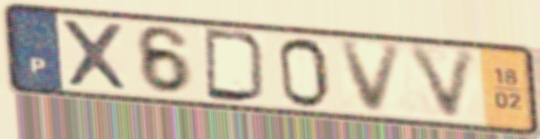0: (275, 36, 333, 110)
6: (132, 24, 198, 98)
D: (200, 25, 271, 105)
V: (402, 41, 483, 125), (336, 40, 409, 116)
X: (57, 16, 134, 94)
